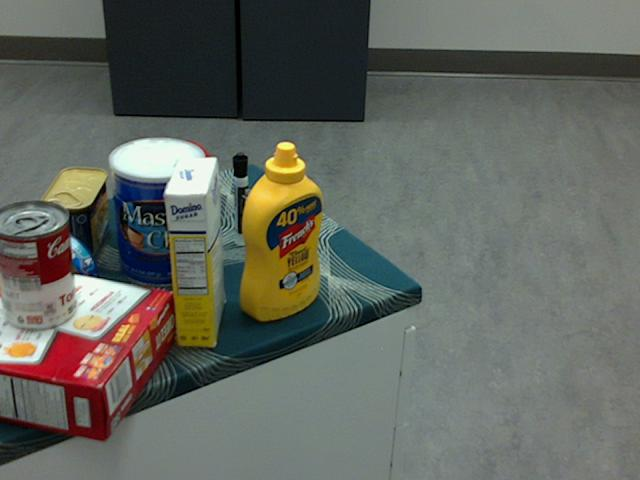cracker_box: (0, 258, 174, 441)
large_marker: (232, 152, 249, 245)
master_chef_can: (107, 137, 205, 288)
mug: (123, 140, 214, 220)
mustard_bottle: (239, 140, 323, 320)
potted_meat_can: (40, 165, 108, 269)
sugar_box: (162, 155, 225, 347)
tomato_soup_can: (0, 201, 76, 331)
tuna_fish_can: (12, 231, 97, 316)
